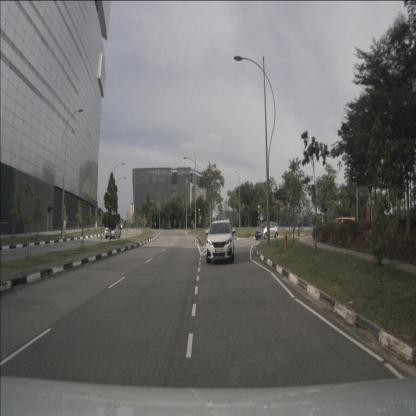vehicle-car: (206, 219, 234, 264), (255, 222, 279, 240), (332, 217, 355, 232), (104, 224, 120, 239)
